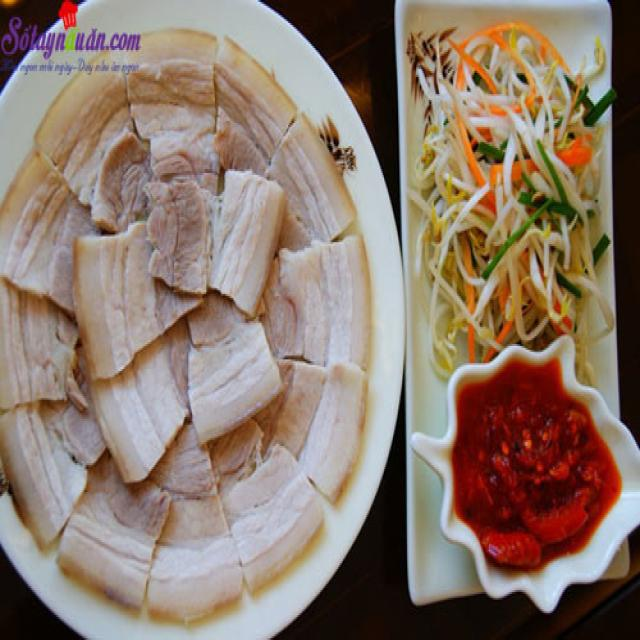do chua: (407, 23, 613, 382)
thit luoc: (0, 31, 369, 621)
